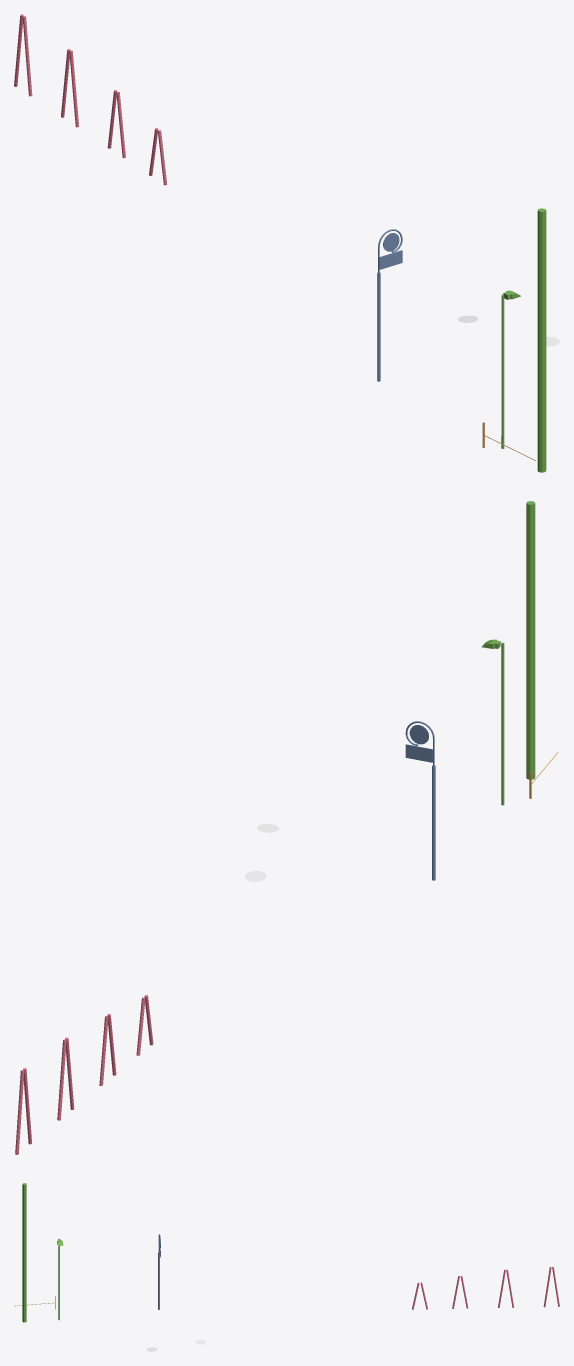
File: data174.glb
3 renders of one model, top to bottom at view 1: azimuth 30°, elevation 25°; view 2: azimuth 150°, elevation 25°; view 3: azimuth 270°, elevation 25°, orthographic. The views are drawn at different scales.
Bounding box in the file's own units: 5.8 × 8.28 × 29.79.
